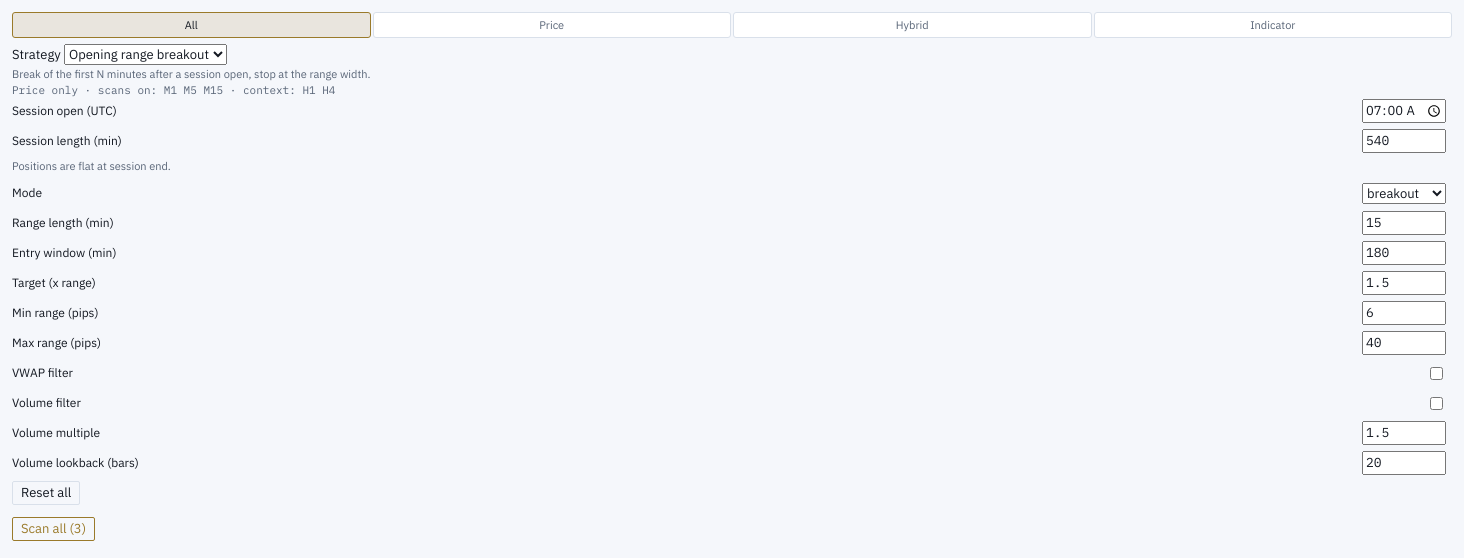
Scenario: scan controls › generates the parameter form from definitions and regenerates on strategy change
Expected: the dropdown labelled "Mode" is shown, [1362,182,1446,204]
Expected: the checkbox labelled "VWAP filter" is shown, [1430,366,1443,380]
Select "Silver Bullet" in the dropdown labelled "Strategy" at (145, 54), box [64,44,227,65]
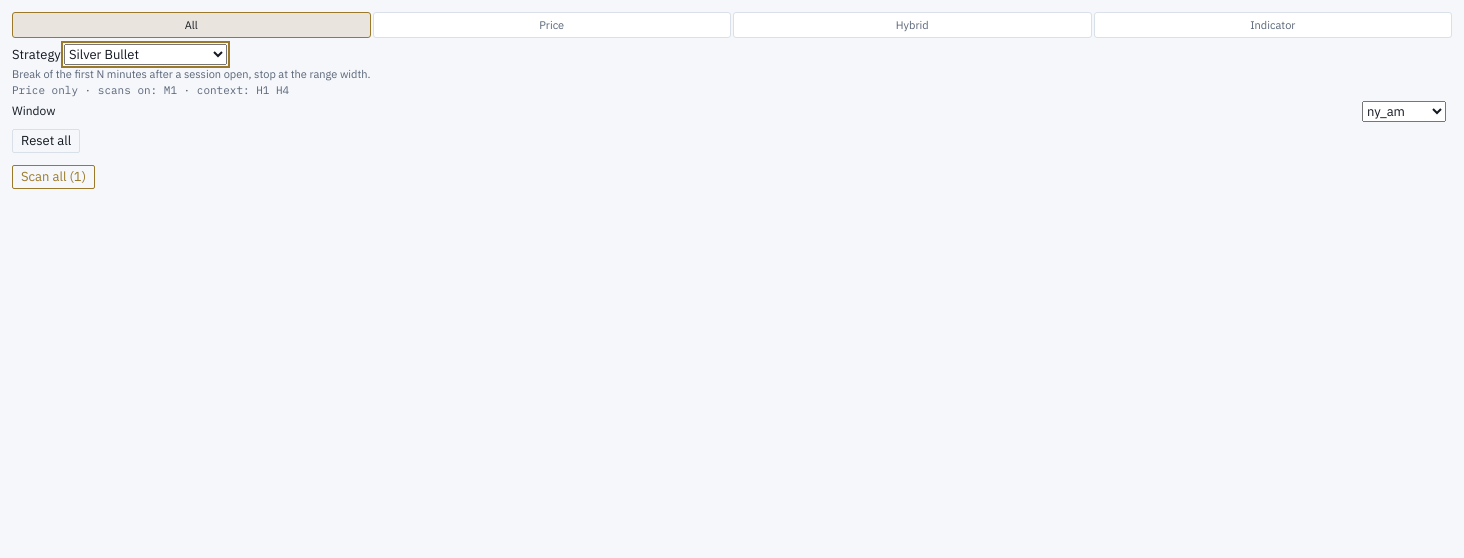
Result: the dropdown labelled "Window" is shown at [1362,100,1446,122]
Result: the button "Scan all (1)" is shown at [12,165,95,189]
